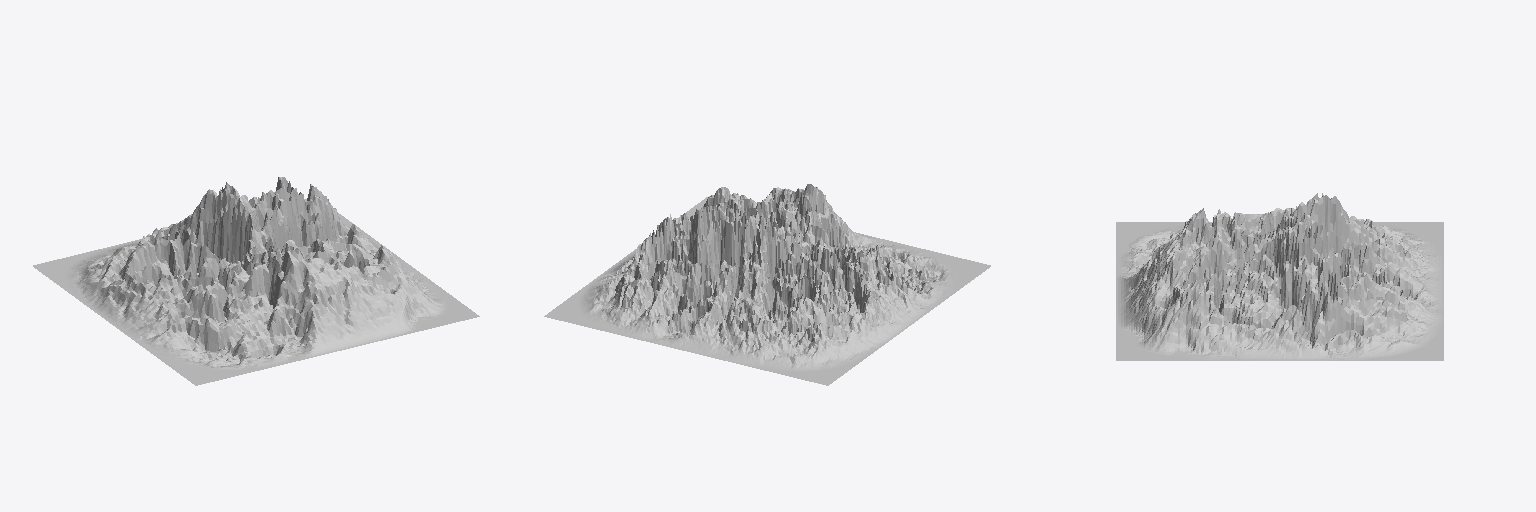
The model's file is foobar.obj.
3 renders of one model, left to right at view 1: azimuth 30°, elevation 25°; view 2: azimuth 150°, elevation 25°; view 3: azimuth 270°, elevation 25°, orthographic.
Visible parts, largest first — view 1: Landscape.004; view 2: Landscape.004; view 3: Landscape.004.
Part boxes in pixels (x1,y1,x2,y2): Landscape.004: (33, 177, 479, 385); Landscape.004: (544, 184, 990, 385); Landscape.004: (1116, 193, 1443, 360).
Bounding box in the file's own units: 2 × 0.7803 × 2.